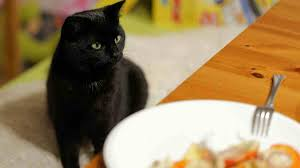cat: (45, 1, 151, 162)
